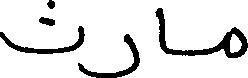X: (0, 0, 82, 76), (84, 29, 139, 77), (226, 22, 247, 62), (156, 3, 167, 58)
